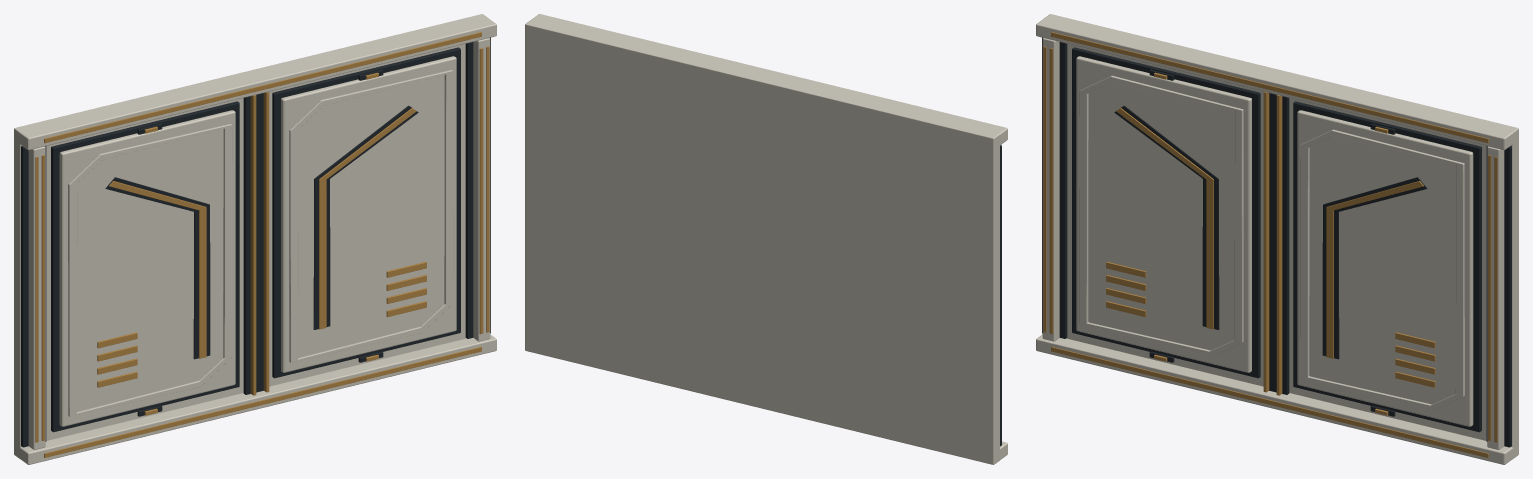
The model's file is SM_Aurelion_KIT_Z12CofferSouth.fbx.
The picture shows the model from 3 angles, left to right: view 1: azimuth 30°, elevation 25°; view 2: azimuth 150°, elevation 25°; view 3: azimuth 330°, elevation 25°; orthographic projection.
Parts seen in each view (by area): view 1: SM_Aurelion_KIT_Z12CofferSouth; view 2: SM_Aurelion_KIT_Z12CofferSouth; view 3: SM_Aurelion_KIT_Z12CofferSouth.
Boxes of the visible parts, bbox=[...] form: SM_Aurelion_KIT_Z12CofferSouth: bbox=[14, 14, 496, 464]; SM_Aurelion_KIT_Z12CofferSouth: bbox=[525, 14, 1007, 464]; SM_Aurelion_KIT_Z12CofferSouth: bbox=[1036, 14, 1518, 464].
Bounding box in the file's own units: 449 × 24.9 × 299.
